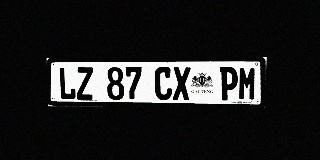7: (125, 67, 142, 100)
8: (107, 67, 124, 100)
C: (155, 67, 172, 100)
L: (58, 67, 76, 100)
M: (238, 67, 257, 101)
P: (219, 67, 238, 100)
X: (173, 67, 191, 100)
Z: (76, 67, 94, 100)
